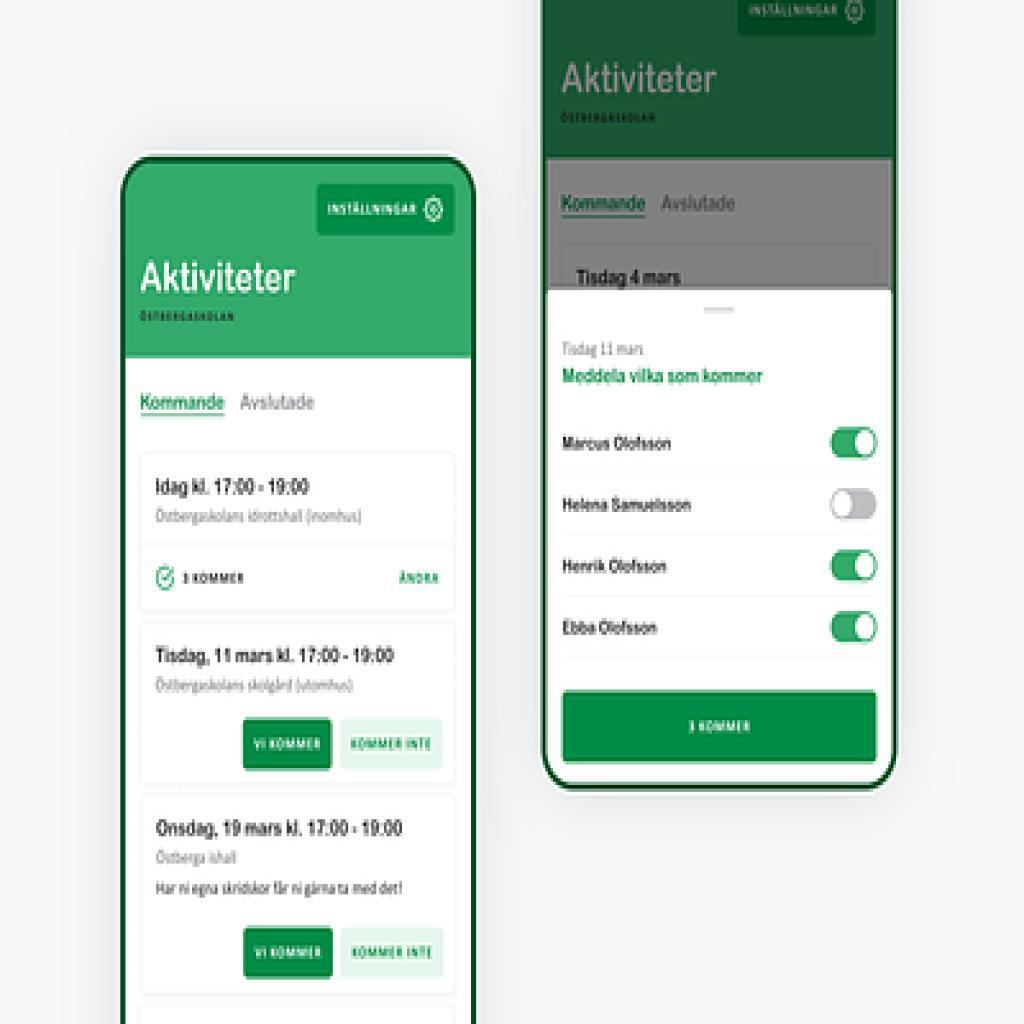button: (563, 690, 876, 764), (337, 721, 448, 771), (245, 929, 337, 982), (347, 929, 441, 980), (245, 717, 333, 771)
switch: (826, 479, 886, 533), (822, 544, 886, 588), (822, 422, 884, 466), (826, 602, 881, 646)
